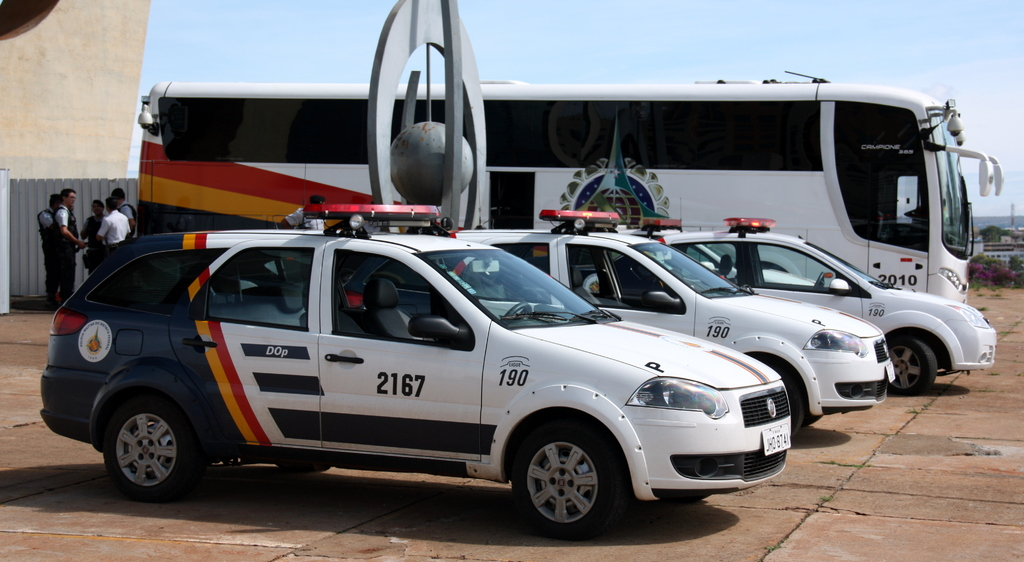Car: (36, 201, 995, 532)
